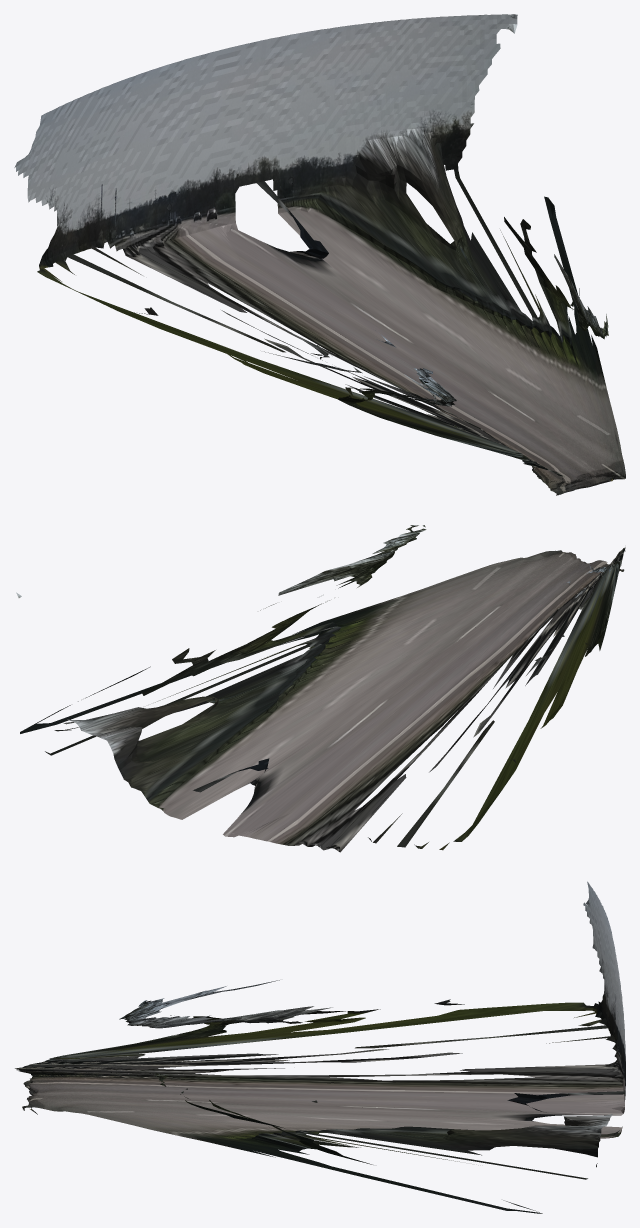
The picture shows the model from 3 angles, top to bottom: view 1: azimuth 30°, elevation 25°; view 2: azimuth 150°, elevation 25°; view 3: azimuth 270°, elevation 25°; orthographic projection. The views are drawn at different scales.
Visible parts, largest first — view 1: defaultobject; view 2: defaultobject; view 3: defaultobject.
Part boxes in pixels (left/top/right/bottom): defaultobject: left=14, top=14, right=625, bottom=495; defaultobject: left=16, top=525, right=625, bottom=852; defaultobject: left=15, top=881, right=625, bottom=1213.
Size of the model in its own units: 35.09 by 12.47 by 45.17.
1 material, 1 textured.
